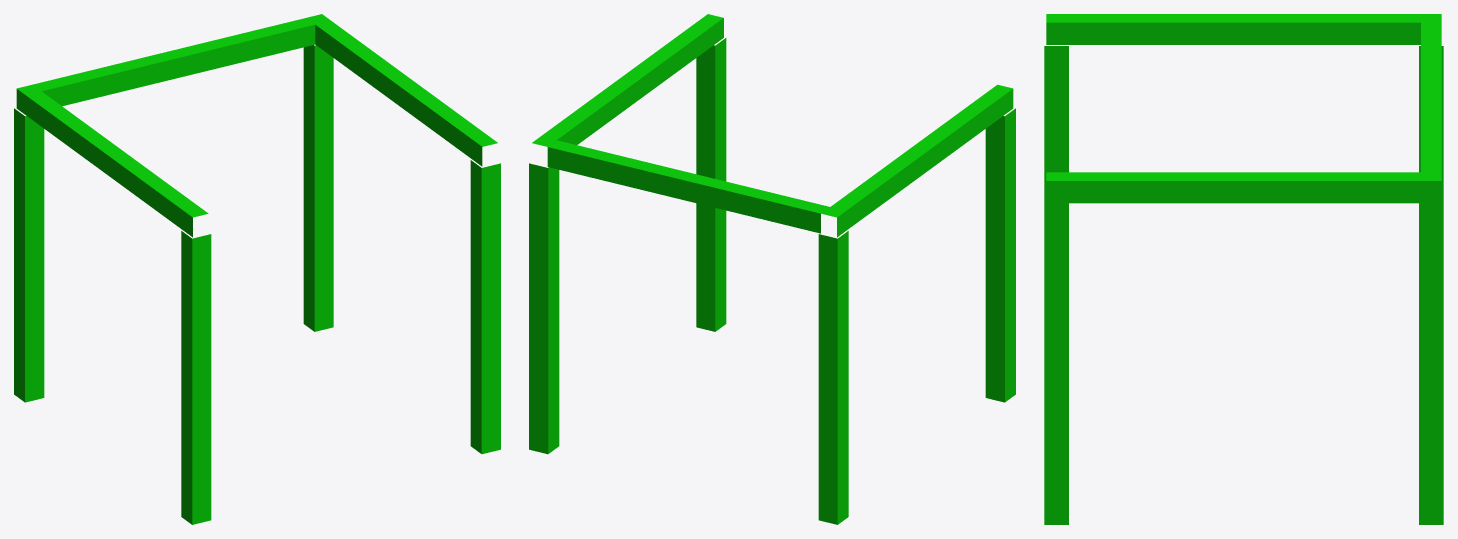
File: stair_well.glb
3 renders of one model, left to right at view 1: azimuth 30°, elevation 25°; view 2: azimuth 150°, elevation 25°; view 3: azimuth 270°, elevation 25°, orthographic. The views are drawn at different scales.
Visible parts, largest first — view 1: stair_well; view 2: stair_well; view 3: stair_well.
Part boxes in pixels (bbox=[...]): stair_well: bbox=[14, 14, 500, 524]; stair_well: bbox=[529, 14, 1015, 524]; stair_well: bbox=[1044, 14, 1443, 524].
Bounding box in the file's own units: 0.97 × 0.92 × 0.97.
